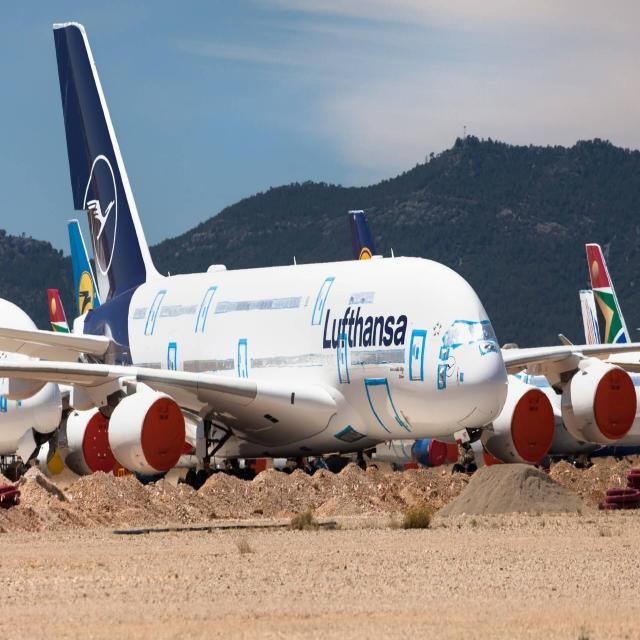A380: (8, 19, 640, 462)
